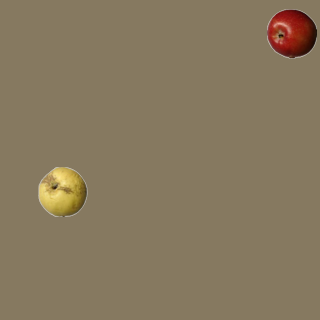Apple Braeburn: (266, 8, 316, 58)
Apple Golden 1: (37, 166, 87, 216)
